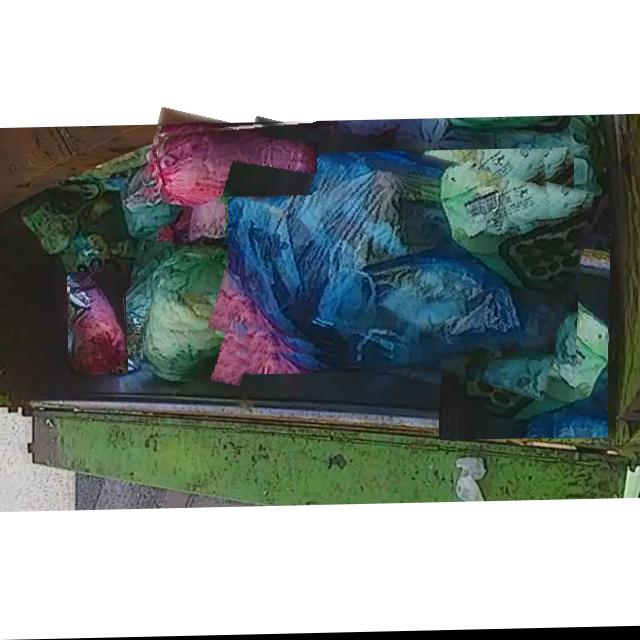general_trashbag: (441, 253, 608, 434), (142, 247, 258, 373)
other_trashbag: (228, 153, 561, 360), (155, 127, 316, 199), (70, 274, 127, 375)
